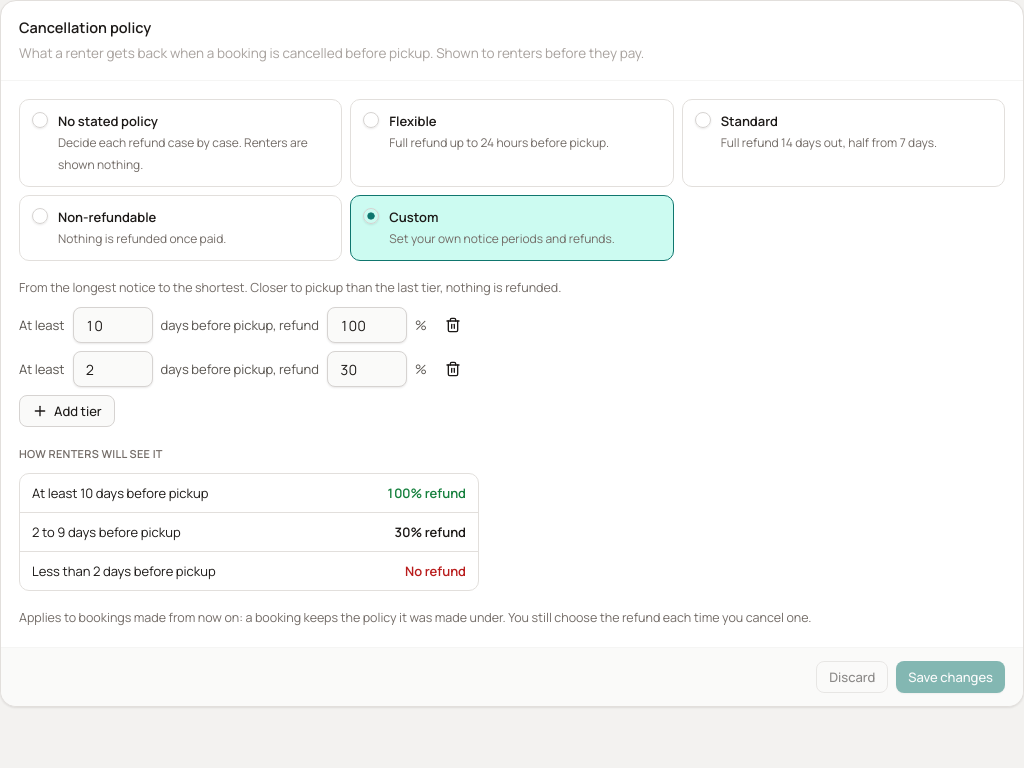
Test: CancellationPolicyCard › keeps a saved custom schedule while a ready-made one is looked at
The width and height of the screenshot is (1024, 768).
Expected: the radio button named "Custom" next to "Custom" is checked, [363,208,379,224]
Click the radio button named "Flexible" next to "Flexible": [371, 120] box [363,112,379,128]
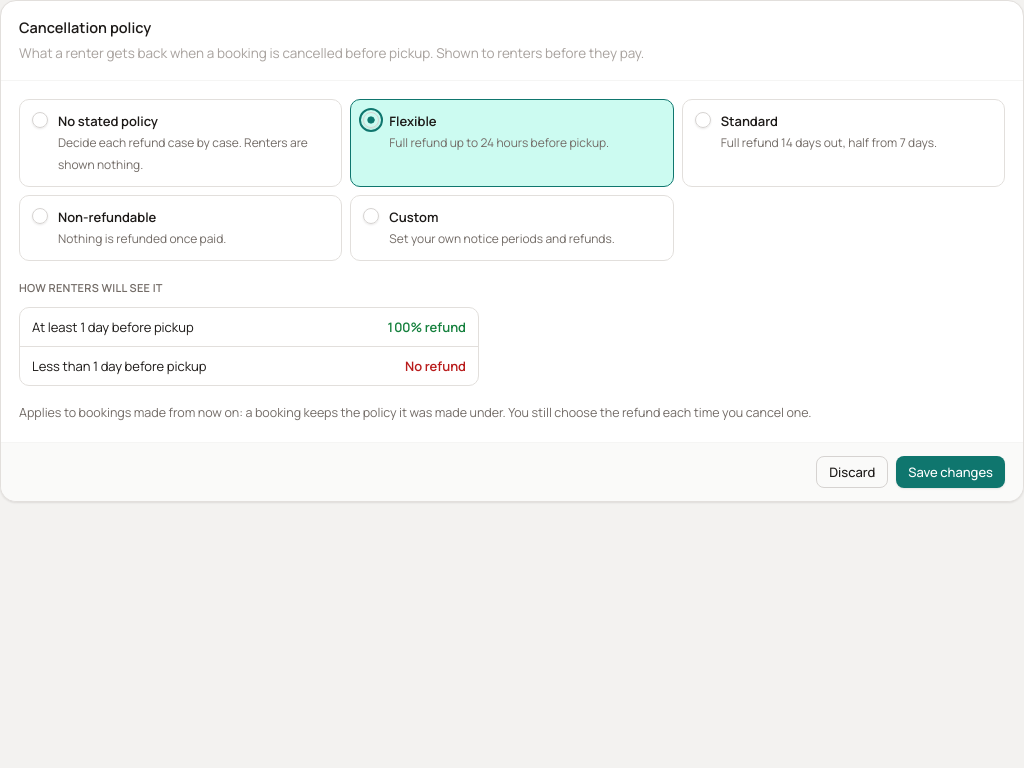
Click the radio button named "Custom" next to "Custom": [371, 216] box [363,208,379,224]
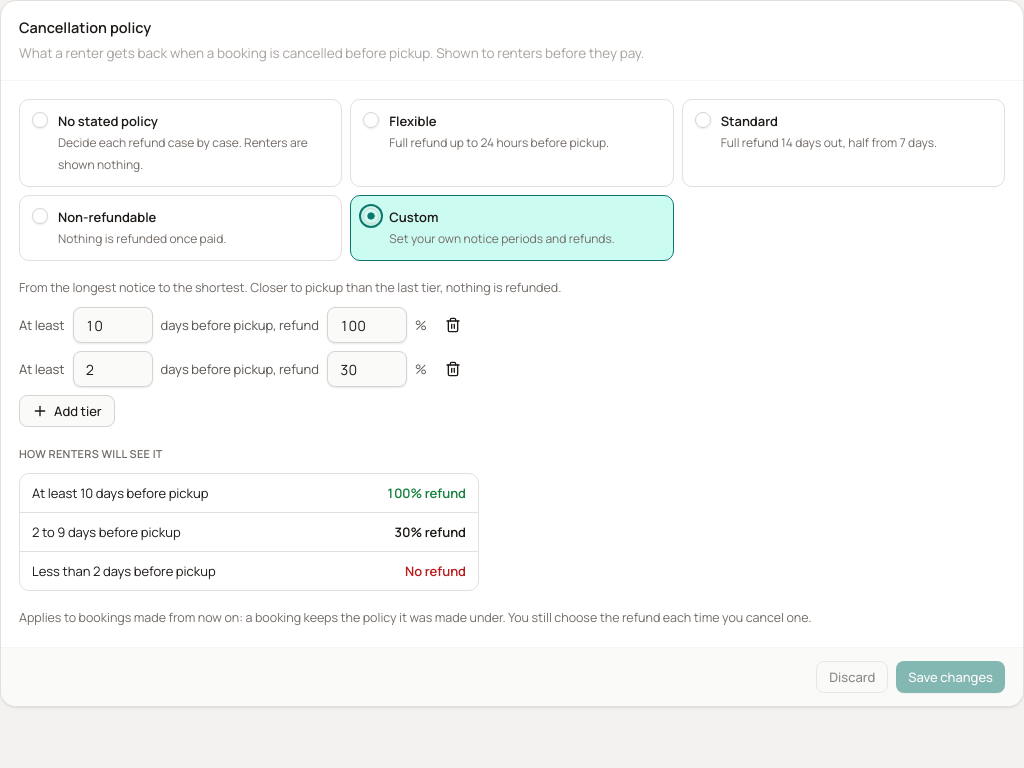
Expected: the number field named "Tier 1: days before pickup" holds "10", [72,307,152,343]
Expected: the number field named "Tier 2: refund percent" holds "30", [327,351,407,387]
Expected: the button "Save changes" is disabled, [896,661,1005,693]
